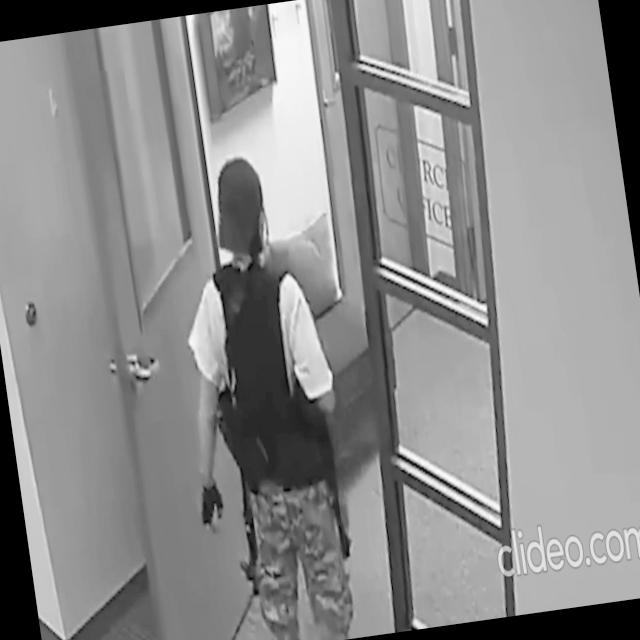gun: (212, 369, 268, 596)
person with a gun: (152, 145, 369, 640)
